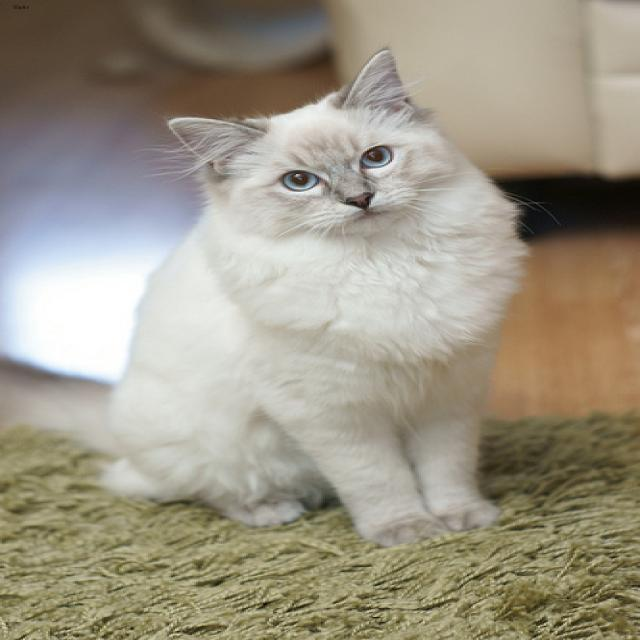Ragdoll: (164, 38, 460, 239)
